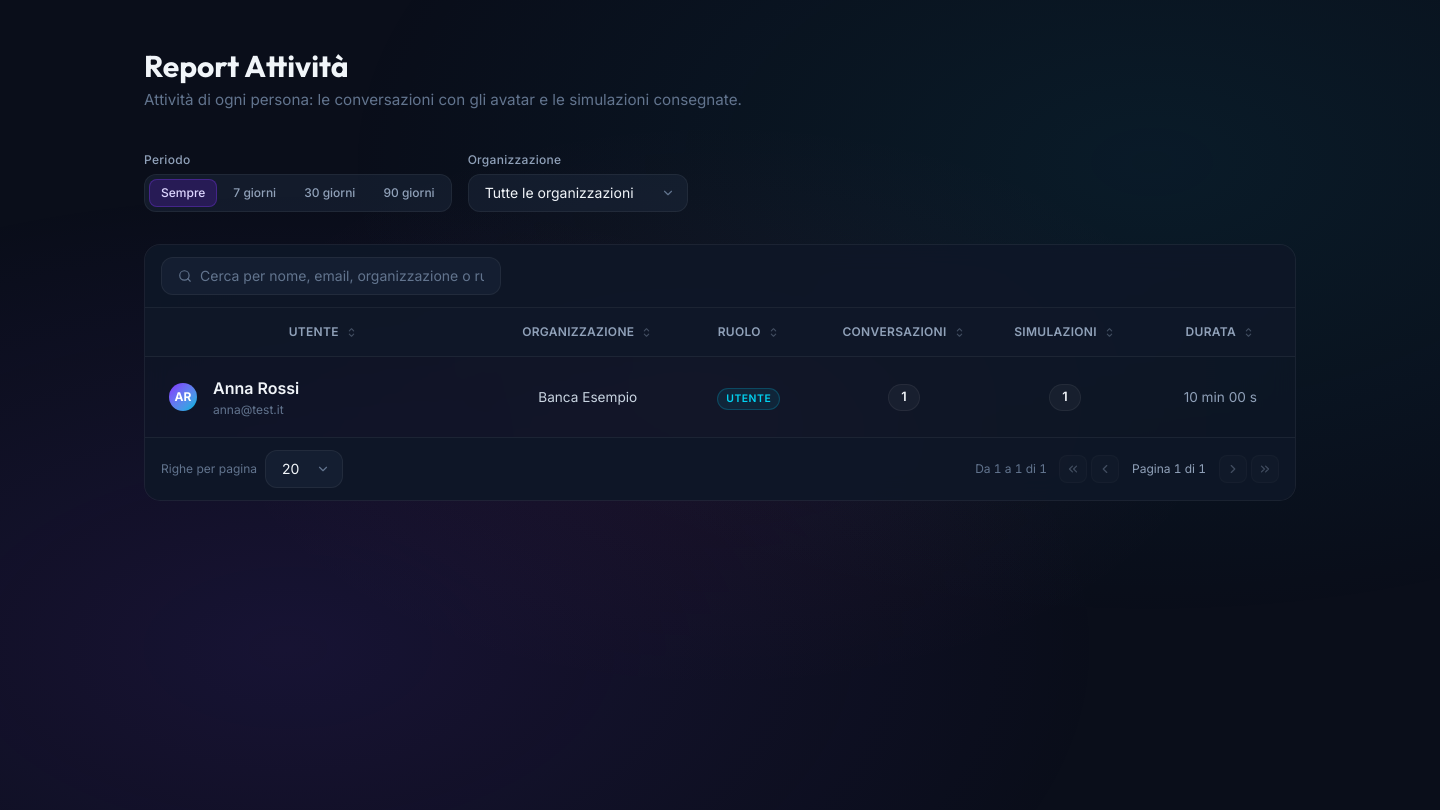
Test case: storico di una persona › si apre in una finestra con un clic sulla riga, e si richiude da lì
Click the text "Anna Rossi" at {"x": 256, "y": 389}, box [213, 376, 299, 402]
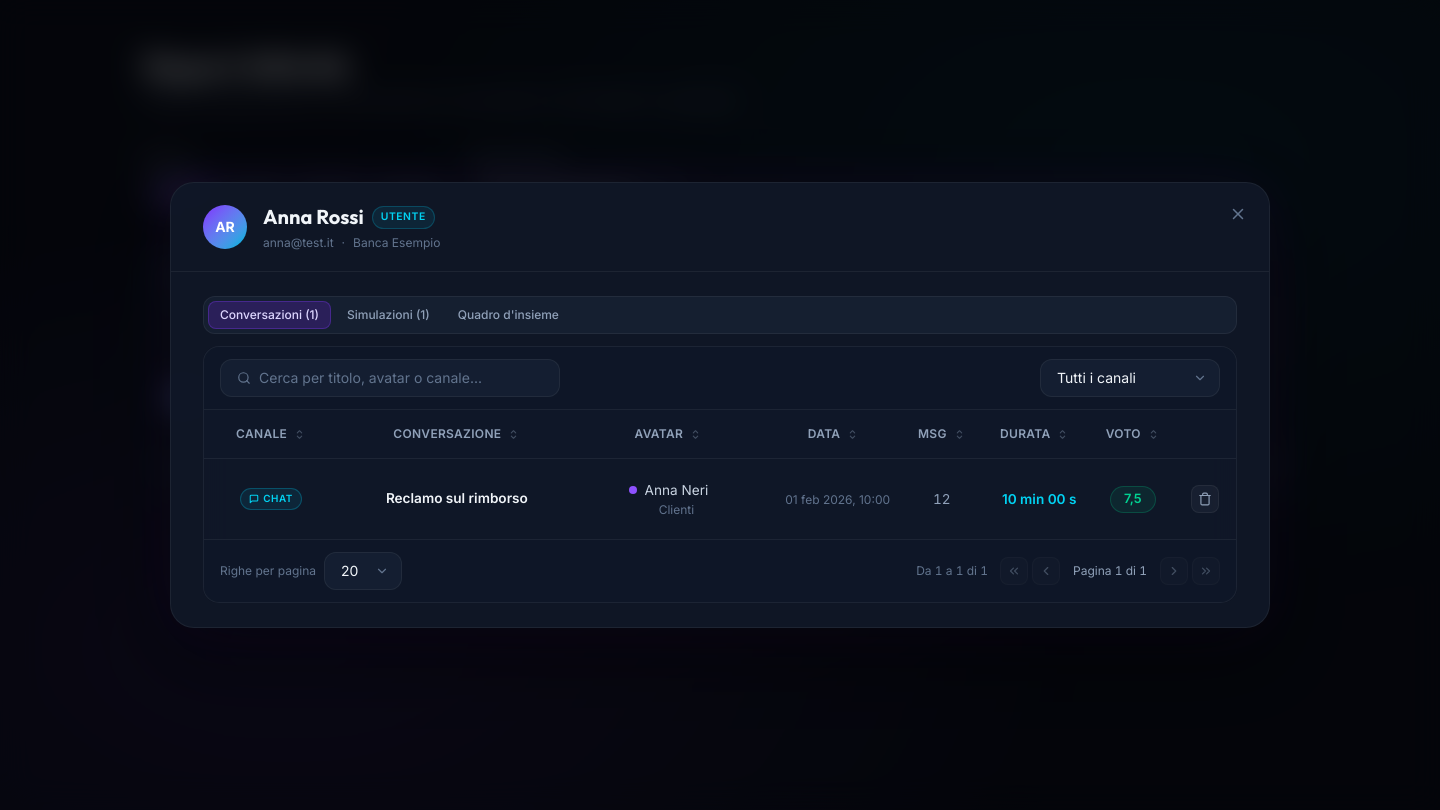
Expected: the text "Reclamo sul rimborso" is shown, [386, 490, 528, 506]
Click the button named "Chiudi report attività" at {"x": 1238, "y": 214}, box [1223, 199, 1253, 229]
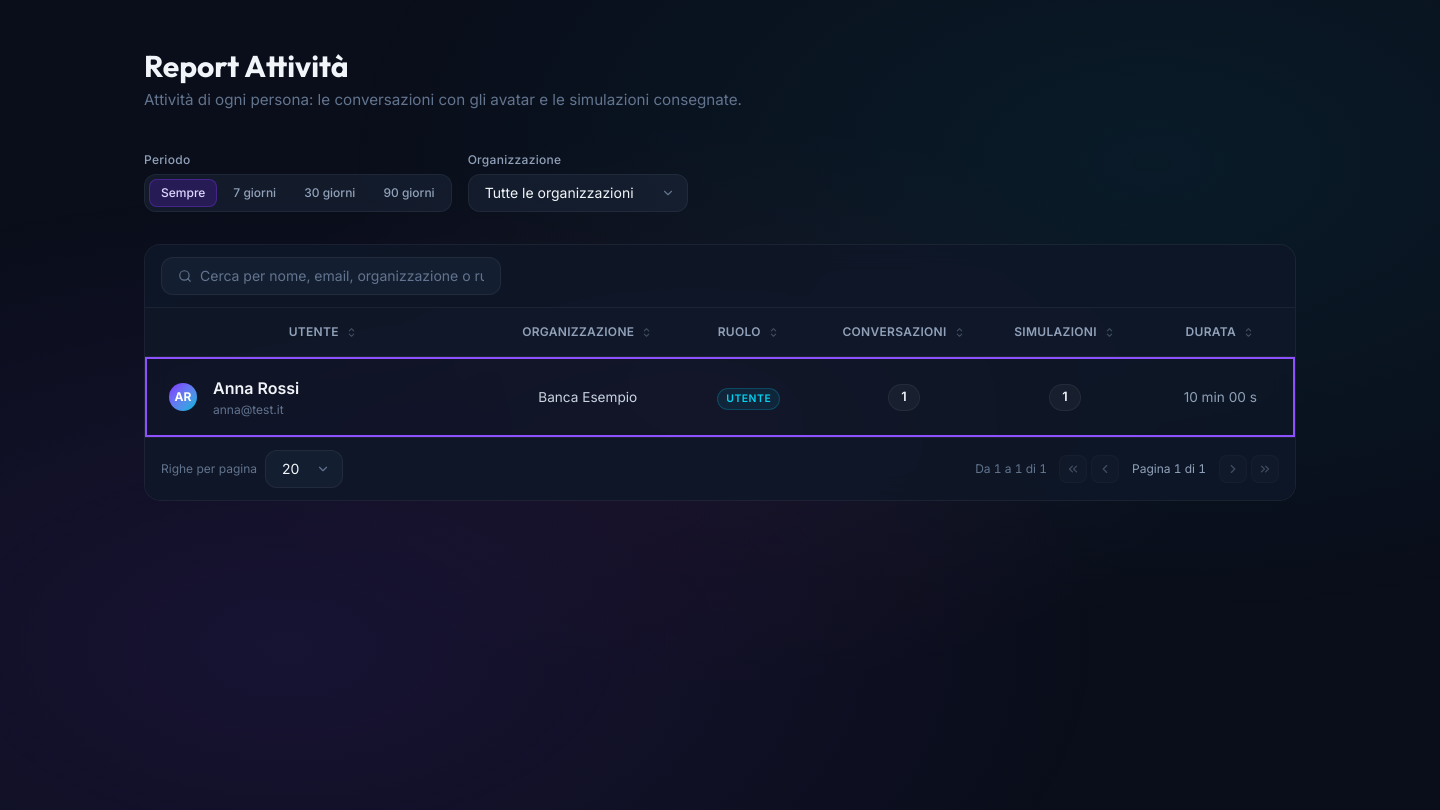
Expected: the dialog is gone
Expected: the text "Reclamo sul rimborso" is gone
